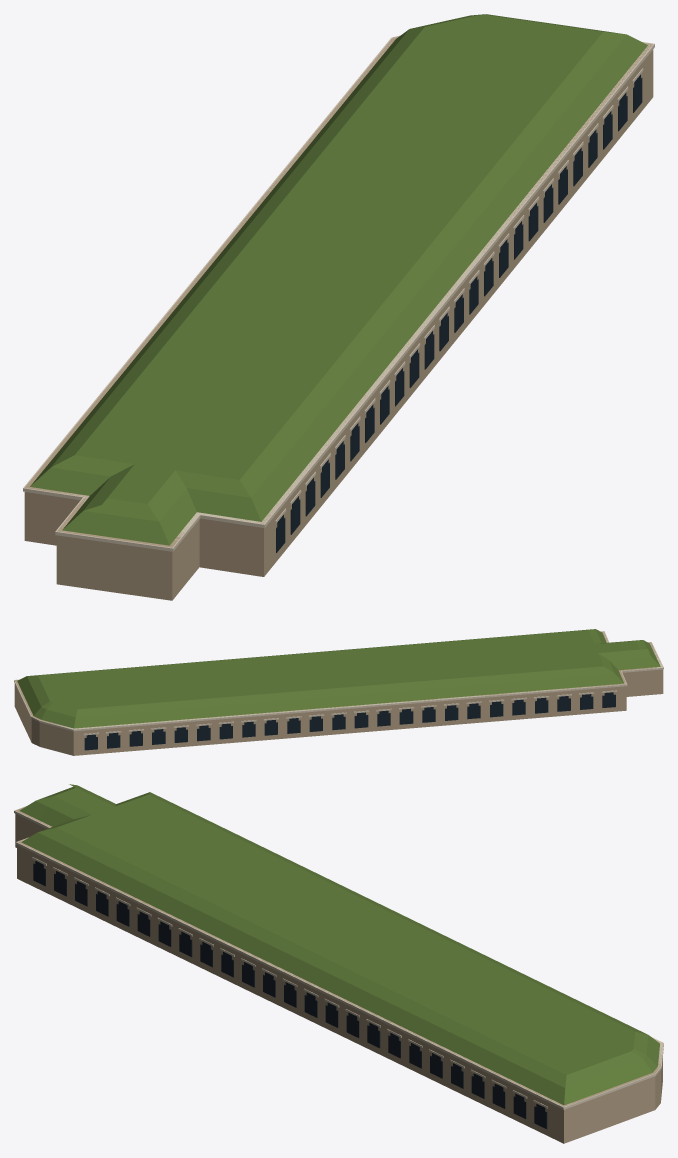
The model's file is kasematten-no.glb.
3 renders of one model, top to bottom at view 1: azimuth 30°, elevation 25°; view 2: azimuth 150°, elevation 25°; view 3: azimuth 270°, elevation 25°, orthographic. The views are drawn at different scales.
Visible parts, largest first — view 1: kasematten-no_lod0; view 2: kasematten-no_lod0; view 3: kasematten-no_lod0.
Part boxes in pixels (left/top/right/bottom): kasematten-no_lod0: left=23, top=14, right=654, bottom=600; kasematten-no_lod0: left=14, top=629, right=663, bottom=755; kasematten-no_lod0: left=14, top=784, right=663, bottom=1143.
Size of what is drawn, in the model's own units: 105 by 8 by 89.99.
